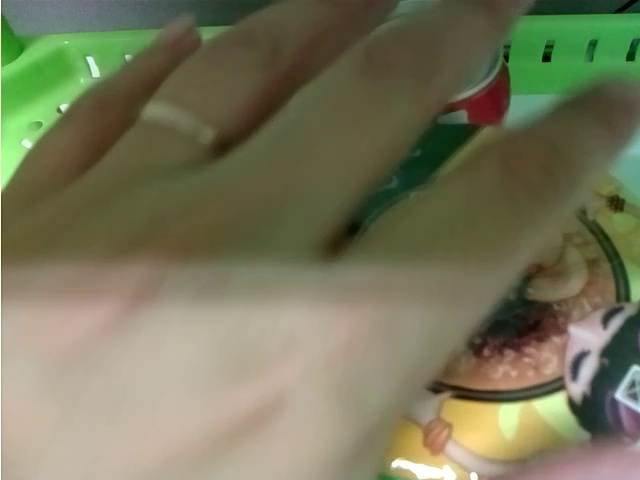hand: (5, 8, 635, 477)
noodles: (383, 130, 640, 480)
